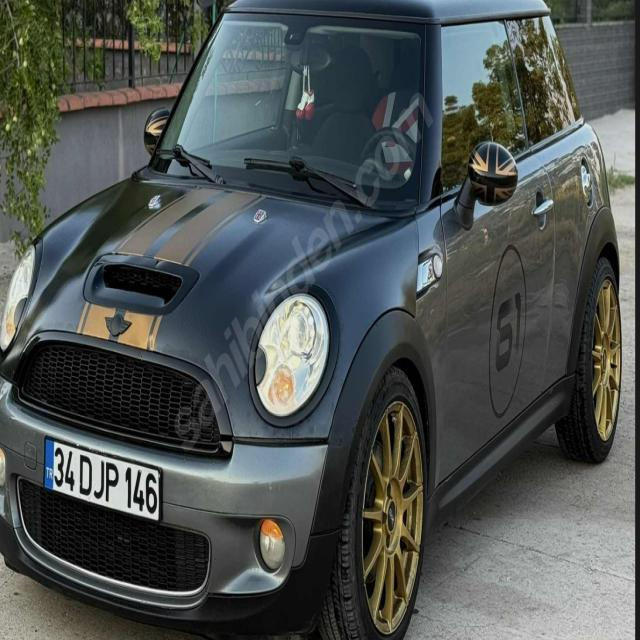mini: (102, 309, 134, 340)
